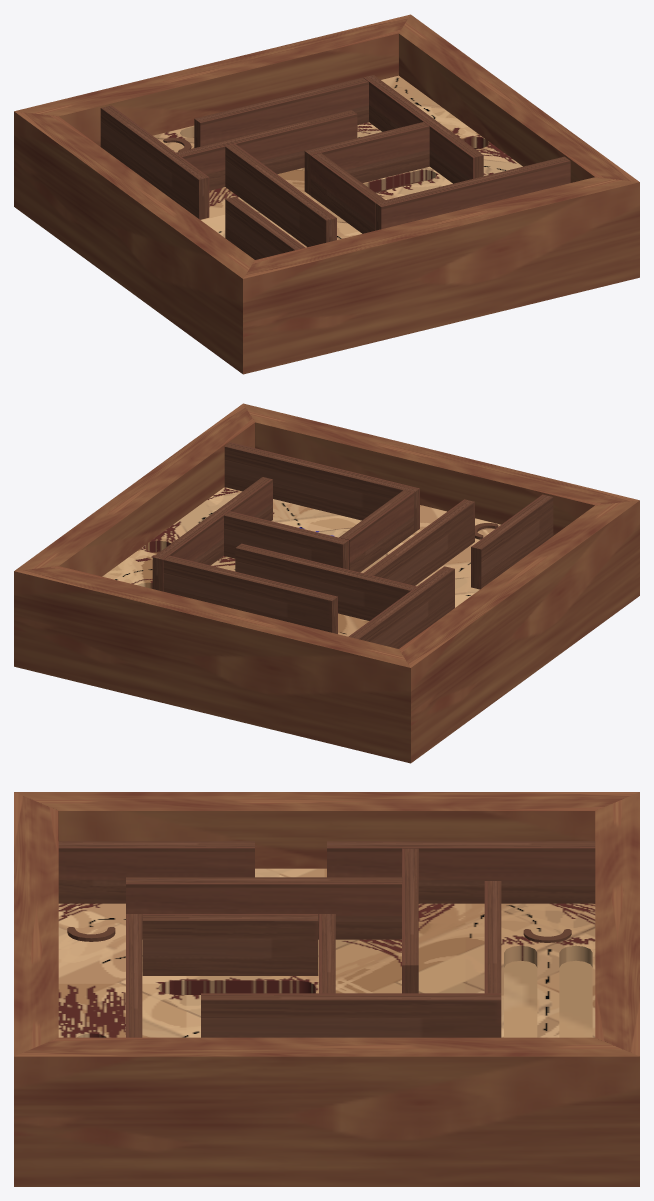
Rendered from simple_puzzle.glb.
The picture shows the model from 3 angles, top to bottom: view 1: azimuth 30°, elevation 25°; view 2: azimuth 150°, elevation 25°; view 3: azimuth 270°, elevation 25°; orthographic projection. The views are drawn at different scales.
Parts seen in each view (by area): view 1: Outer Walls, Floor, Wall.004, Wall.005, Wall.003, Wall.001, Wall, Wall.008, Wall.007, Wall.006, Wall.002; view 2: Outer Walls, Wall.004, Floor, Wall.005, Wall.003, Wall, Wall.002, Wall.001, Wall.008, Wall.007, Wall.006; view 3: Outer Walls, Floor, Wall.001, Wall.007, Wall, Wall.006, Wall.002, Floor.001, Wall.003, Wall.004, Wall.005, Wall.008.
Boxes of the visible parts, x1,y1,x2,y2 form: Outer Walls: (14,14,639,374); Floor: (153,75,522,247); Wall.004: (375,156,570,230); Wall.005: (194,77,368,147); Wall.003: (176,110,357,190); Wall.001: (100,105,209,219); Wall: (225,144,336,247); Wall.008: (304,122,429,195); Wall.007: (363,75,483,183); Wall.006: (310,153,385,233); Wall.002: (225,196,305,259); Outer Walls: (14,403,639,763); Wall.004: (224,442,419,532); Floor: (102,487,500,636); Wall.005: (163,555,337,633); Wall.003: (235,543,416,620); Wall: (363,499,474,585); Wall.002: (471,494,553,589); Wall.001: (348,566,454,648); Wall.008: (224,511,348,569); Wall.007: (152,477,272,591); Wall.006: (339,490,413,572); Outer Walls: (14,792,639,1186); Floor: (58,868,595,1037); Wall.001: (327,841,595,903); Wall.007: (201,993,501,1037); Wall: (126,877,402,939); Wall.006: (142,914,318,975); Wall.002: (58,841,254,903); Floor.001: (504,960,592,1037); Wall.003: (402,848,418,993); Wall.004: (126,914,142,1037); Wall.005: (484,881,501,993); Wall.008: (319,914,335,993).
Size of the model in its own units: 0.2262 by 0.052 by 0.2262.
Materials: 5 (5 with a texture image).
